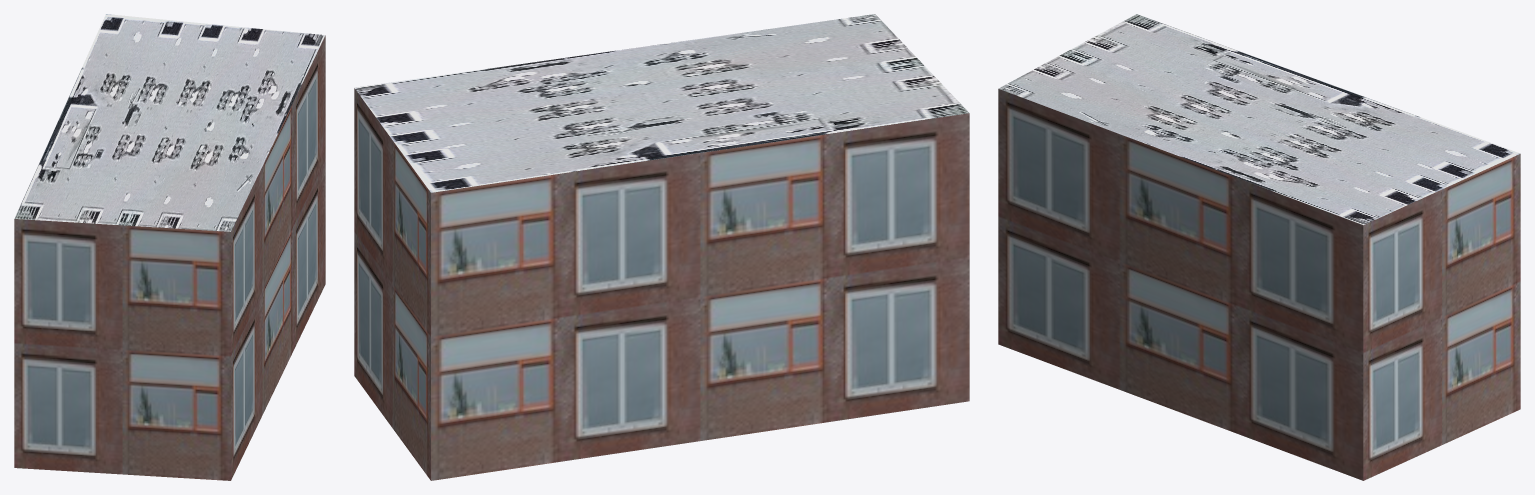
The model's file is ResTex__840.fbx.
3 renders of one model, left to right at view 1: azimuth 30°, elevation 25°; view 2: azimuth 150°, elevation 25°; view 3: azimuth 270°, elevation 25°, orthographic. The views are drawn at different scales.
Visible parts, largest first — view 1: CityEngineMaterial_19_m, CityEngineMaterial_15_m; view 2: CityEngineMaterial_19_m, CityEngineMaterial_15_m; view 3: CityEngineMaterial_19_m, CityEngineMaterial_15_m.
Boxes of the visible parts, <box> form: CityEngineMaterial_19_m: <box>14,35,325,480</box>; CityEngineMaterial_15_m: <box>14,14,325,231</box>; CityEngineMaterial_19_m: <box>354,88,969,480</box>; CityEngineMaterial_15_m: <box>354,14,969,192</box>; CityEngineMaterial_19_m: <box>998,89,1520,480</box>; CityEngineMaterial_15_m: <box>998,14,1520,225</box>.
Size of the model in its own units: 10.63 by 6 by 11.11.
2 materials, 2 textured.
